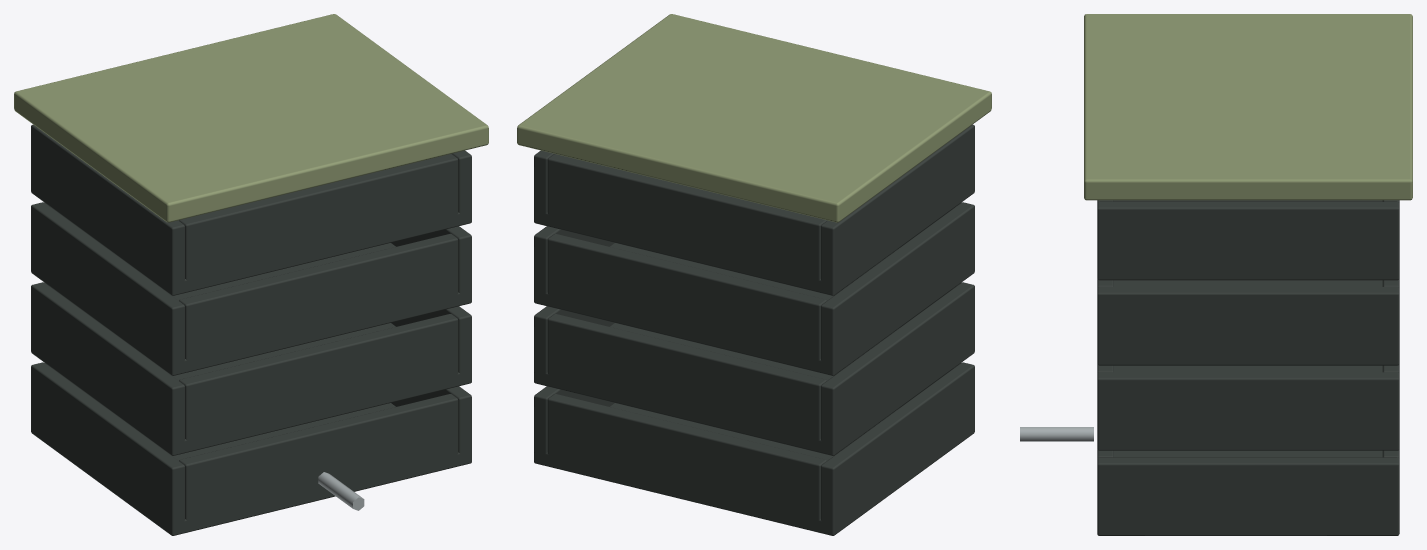
Rendered from survival-greenhouse-and-irrigation-wormery-tray-stack-75c7f00e__21339.glb.
3 renders of one model, left to right at view 1: azimuth 30°, elevation 25°; view 2: azimuth 150°, elevation 25°; view 3: azimuth 270°, elevation 25°, orthographic. The views are drawn at different scales.
Visible parts, largest first — view 1: wormery-tray-stack; view 2: wormery-tray-stack; view 3: wormery-tray-stack.
Part boxes in pixels (x1,y1,x2,y2): wormery-tray-stack: (14,14,488,535); wormery-tray-stack: (517,14,991,535); wormery-tray-stack: (1020,14,1412,535).
Bounding box in the file's own units: 0.59 × 0.595 × 0.585.
